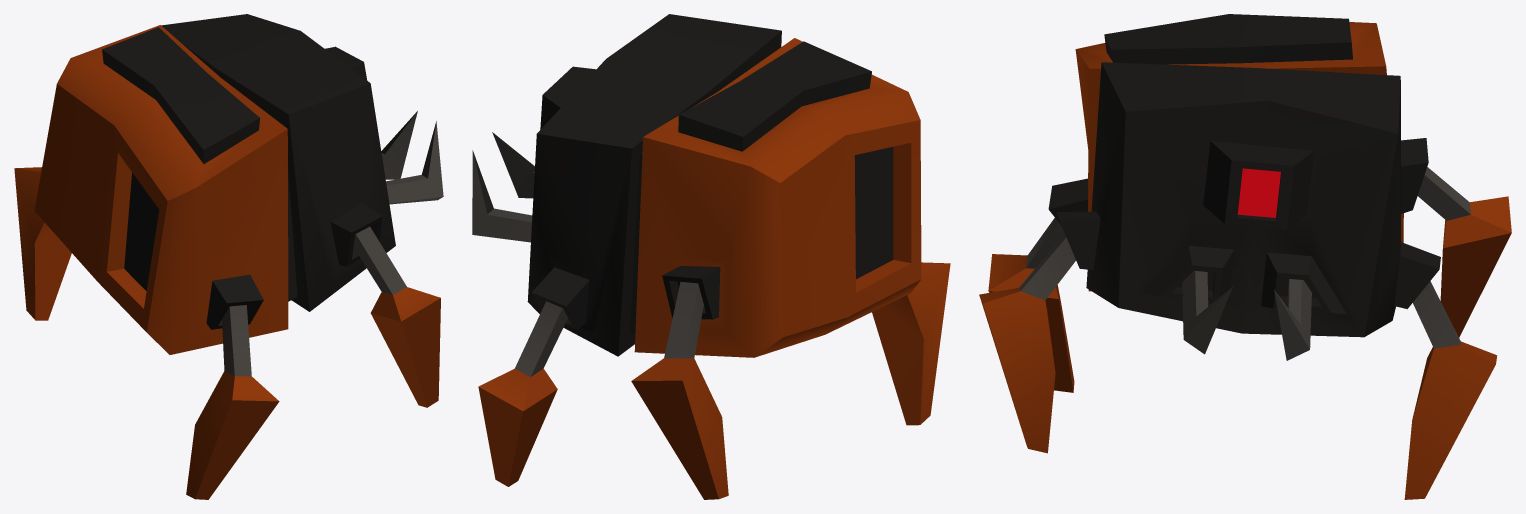
File: SPIDBOT16.obj
3 renders of one model, left to right at view 1: azimuth 30°, elevation 25°; view 2: azimuth 150°, elevation 25°; view 3: azimuth 270°, elevation 25°, orthographic. The views are drawn at different scales.
Parts seen in each view (by area): view 1: Cube.001; view 2: Cube.001; view 3: Cube.001.
Part boxes in pixels (left/top/right/bottom): Cube.001: left=14, top=14, right=443, bottom=499; Cube.001: left=472, top=14, right=950, bottom=499; Cube.001: left=979, top=14, right=1511, bottom=499.
Size of what is drawn, in the model's own units: 2.88 by 2.87 by 3.49.
